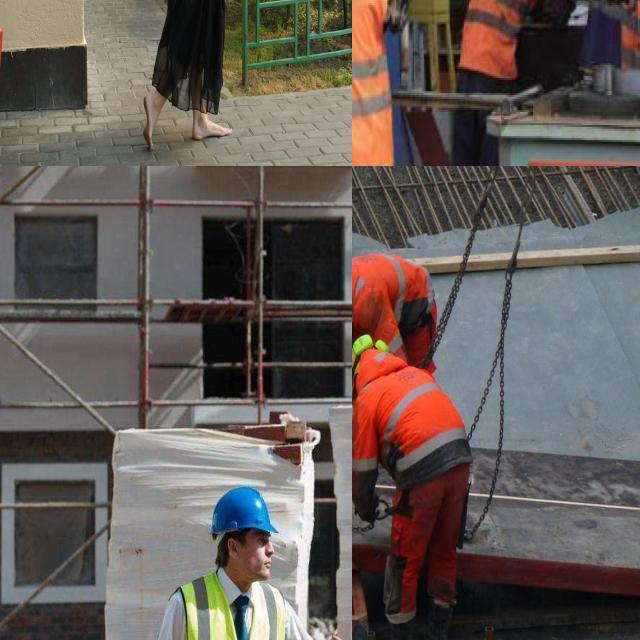Barefoots: (192, 120, 232, 140), (143, 93, 155, 151)
face_nomask: (243, 531, 276, 586)
hand_glove: (611, 0, 640, 12)
head_helmet: (199, 479, 283, 544)
person: (352, 339, 473, 640), (450, 0, 574, 166), (158, 483, 285, 640), (352, 253, 434, 374), (595, 0, 640, 81)
vest: (356, 366, 466, 500), (352, 253, 438, 350), (178, 568, 282, 640), (352, 0, 393, 166), (451, 0, 553, 59)
